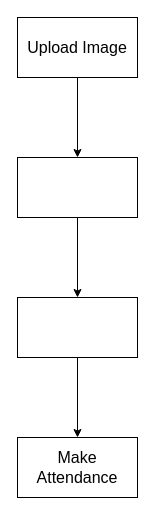
Some shapes in this 155 by 515 pixel diagram are drawn without their labels. The shapes that lost their labels are listed below. From the top down, each one's centre as x and y in pixels, then its label:
At [77,187]: "Training over image".
At [77,327]: "Recognize image".
